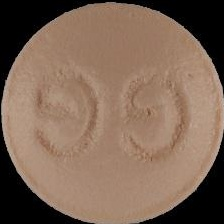55289-144: (0, 0, 224, 224)
